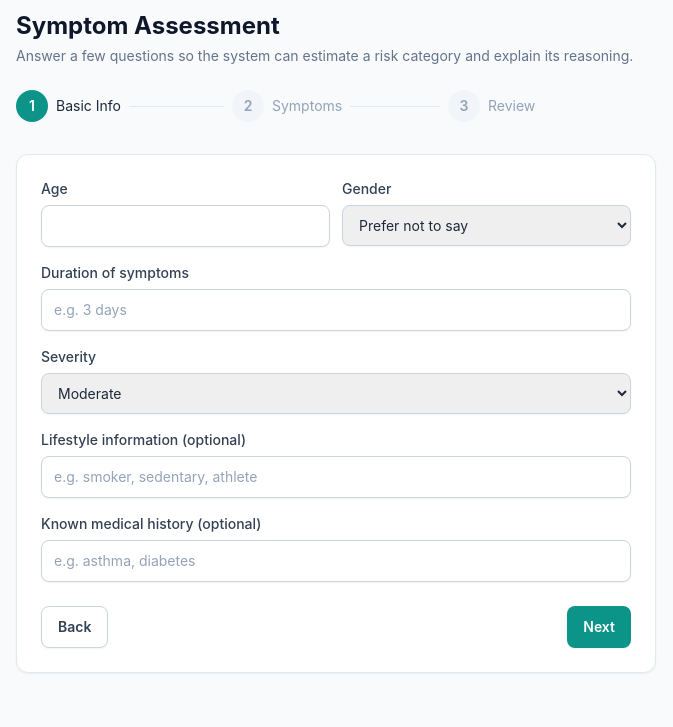
Assessment page › allows navigating back to the first step
Click the button "Next": (599, 627) left=567, top=606, right=631, bottom=648
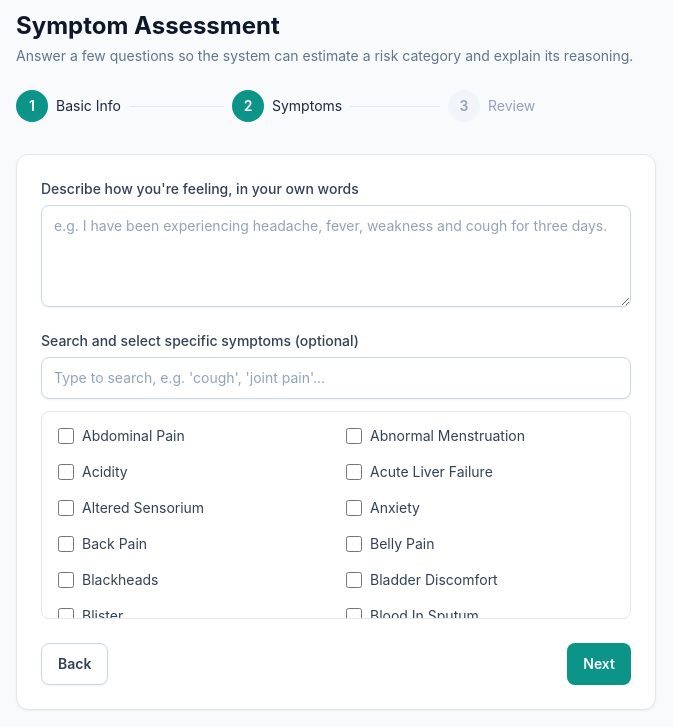
Click the button "Back": (75, 664) left=41, top=643, right=108, bottom=685
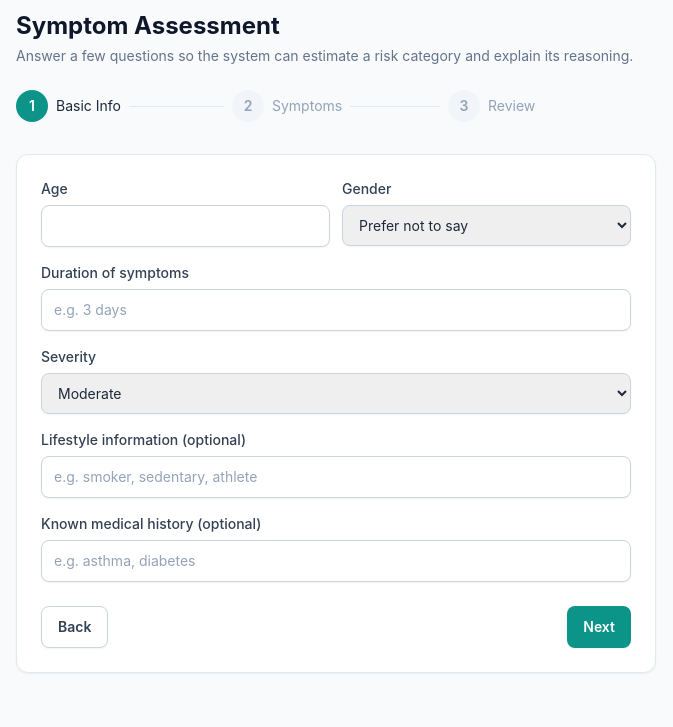
Result: the number field labelled "Age" is shown at left=41, top=205, right=330, bottom=247
